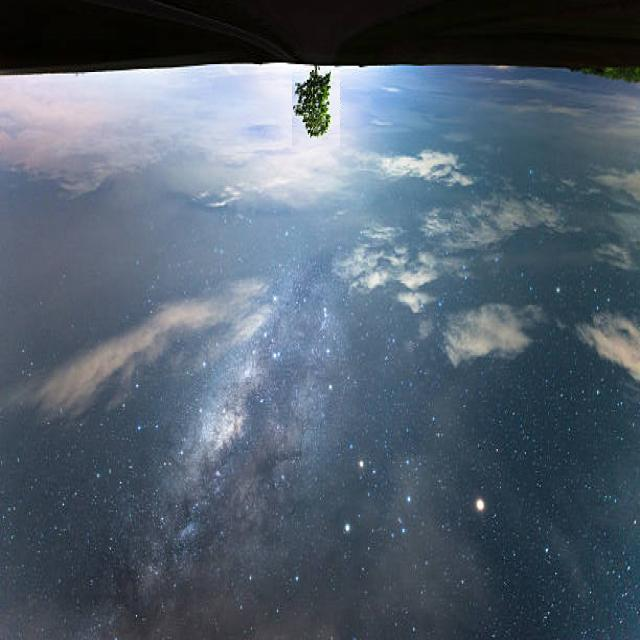tree: (292, 70, 340, 146)
